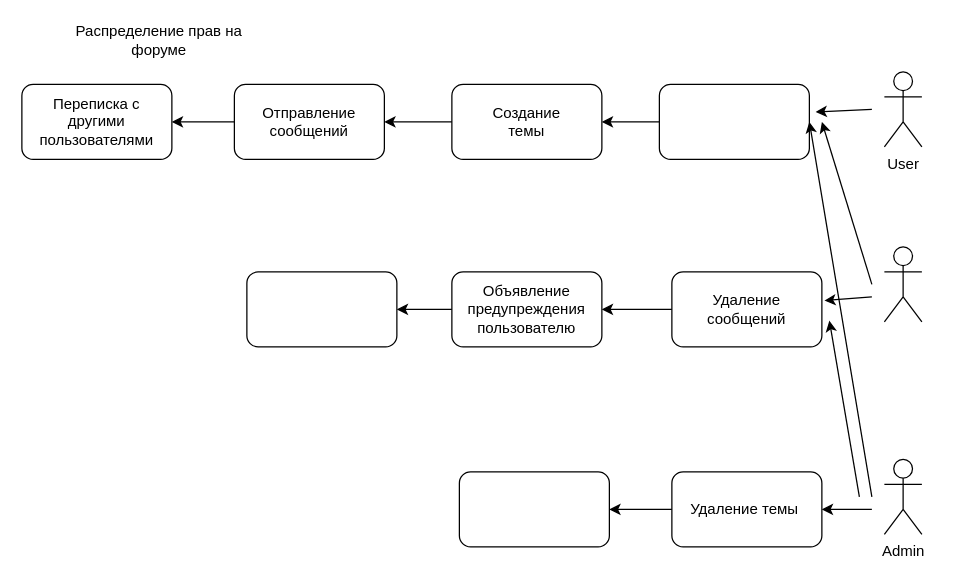
This 959x581 diagram has some shape labels left out. Here are the shapes that lost their labels. From the top down, the box of each, then its label:
(658, 83, 809, 159): Регистрация
(883, 246, 922, 322): Moderator
(246, 271, 397, 347): Изменять информацию о пользователе
(458, 471, 609, 547): Забанить пользователя
